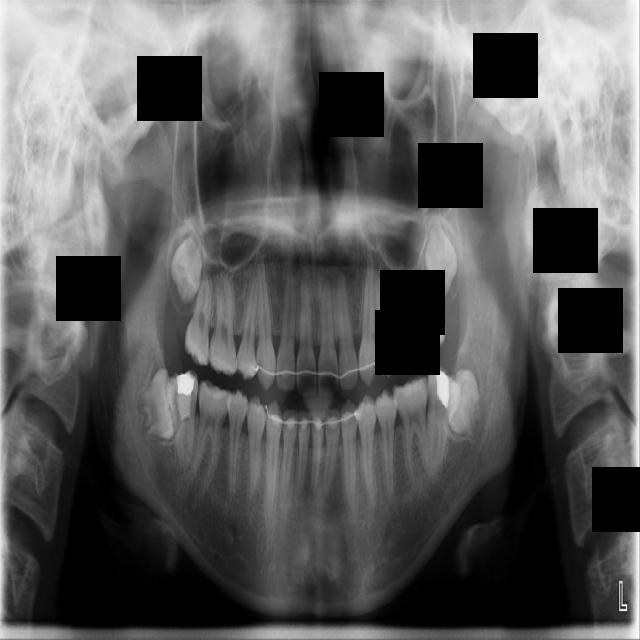3M ESPE Implant: (170, 225, 202, 304)
52: (427, 364, 461, 421), (167, 369, 198, 422)
73: (608, 585, 610, 599)
BioHorizons Implant: (409, 237, 448, 359)
BioLife Implant: (425, 220, 458, 298)
Biomet 3i Implant: (446, 368, 481, 439)
Blue Sky Bio Implant: (426, 362, 461, 481)
Caries: (183, 268, 214, 367)
Implant: (166, 369, 198, 468)
Keystone Dental Implant: (133, 367, 180, 443)
